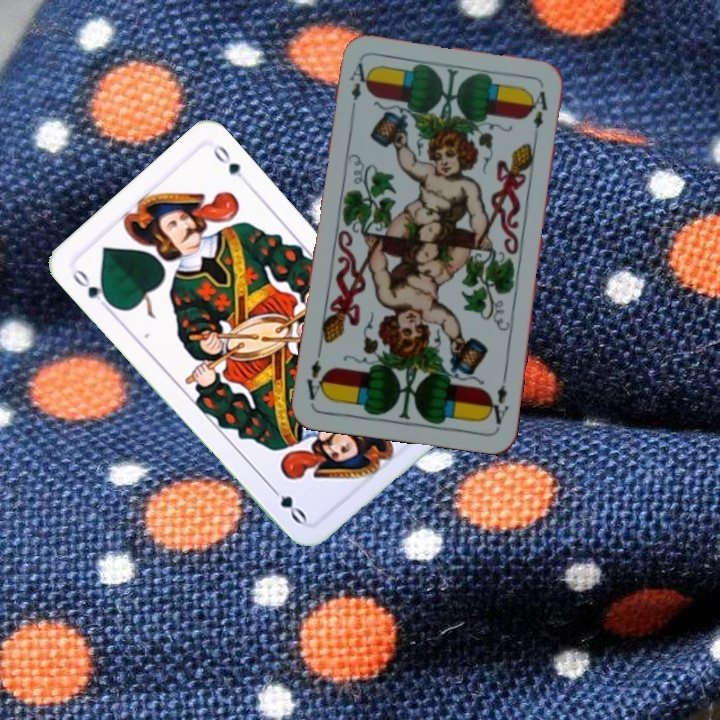EA: (483, 370, 512, 427), (346, 59, 370, 117)
GO: (68, 264, 116, 314)
